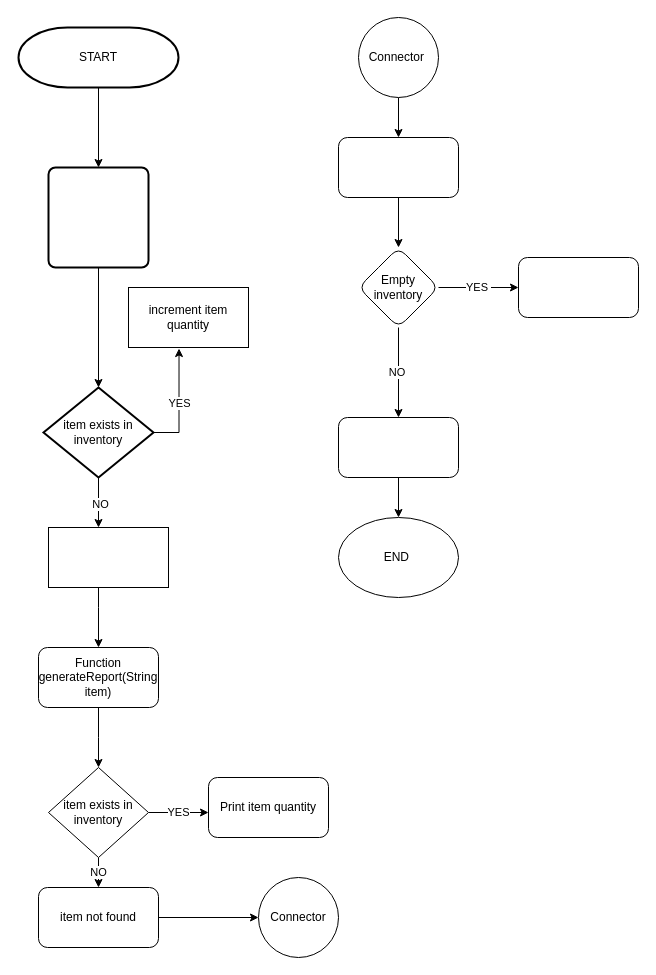
Image size: 656x975. Some labels were removed from this diagram. The shapes that lost their labels are listed below. From the top down, each one's box as (x1, y1, x2, y2) in pixels, then its label:
(338, 136, 458, 198): Function Generalreport()
(47, 166, 149, 268): Function add(string item,int quantity)
(518, 256, 638, 318): No item found
(338, 416, 458, 478): For each item in inventory print item with item quantity
(48, 526, 168, 588): add item to the inventory with item quantity
